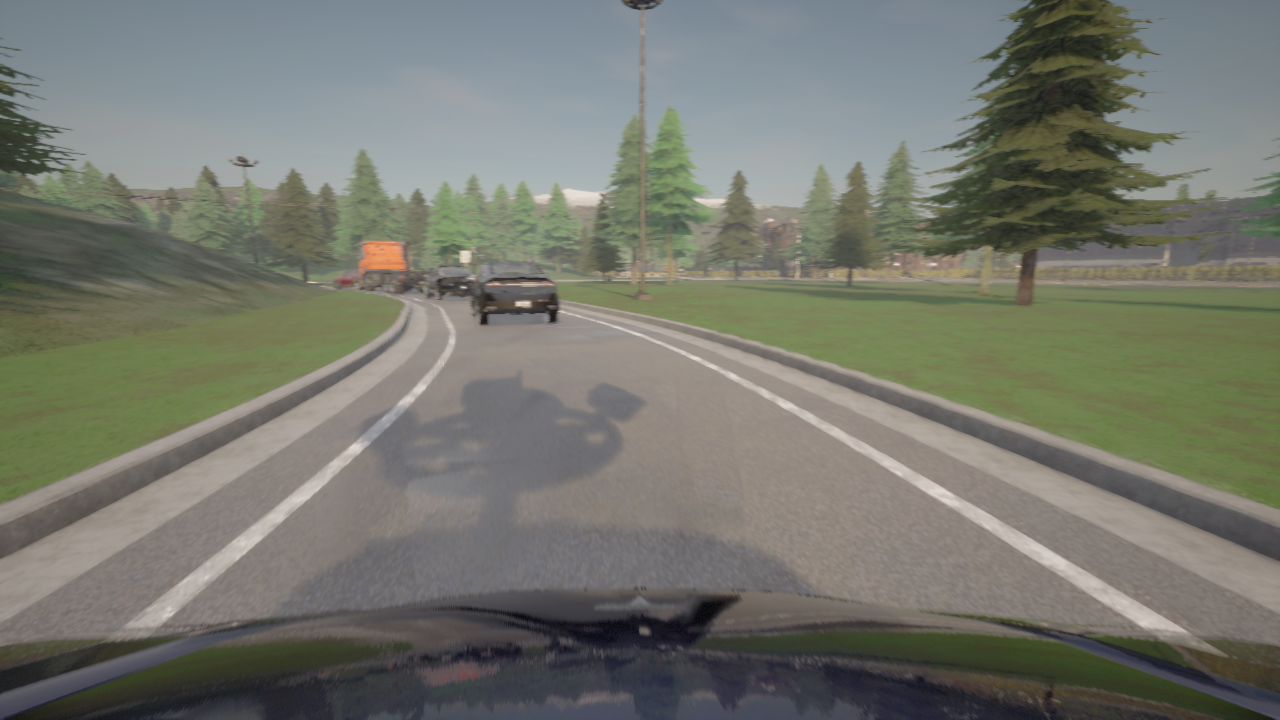cyclist: (0, 588, 1279, 719), (466, 261, 558, 325), (355, 240, 431, 293), (424, 264, 476, 300), (333, 267, 383, 290)
